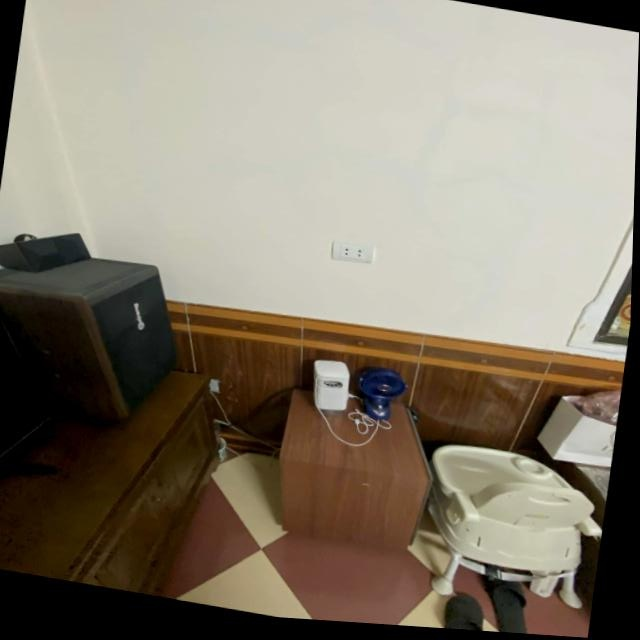outlet: (332, 238, 376, 265)
